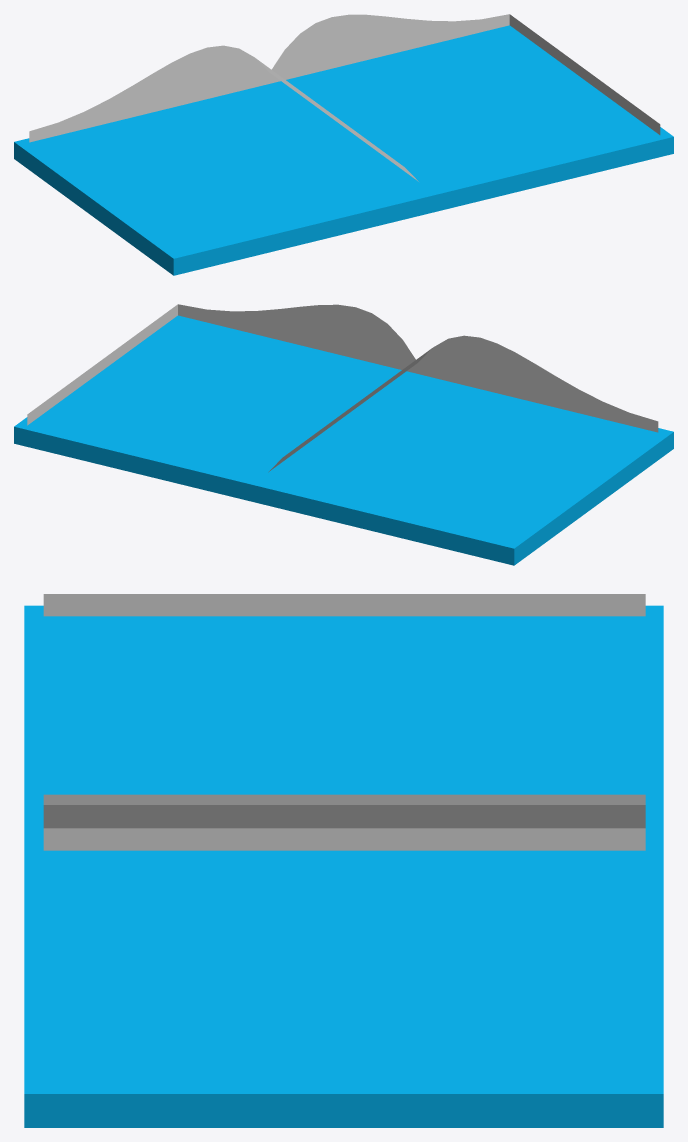
File: openbookblue.glb
3 renders of one model, top to bottom at view 1: azimuth 30°, elevation 25°; view 2: azimuth 150°, elevation 25°; view 3: azimuth 270°, elevation 25°, orthographic. The views are drawn at different scales.
Visible parts, largest first — view 1: Cube, BézierCurve; view 2: Cube, BézierCurve; view 3: Cube, BézierCurve.
Boxes of the visible parts, x1,y1,x2,y2 form: Cube: (14,25,673,275); BézierCurve: (29,14,660,181); Cube: (14,315,673,565); BézierCurve: (27,304,658,472); Cube: (24,605,663,1127); BézierCurve: (43,594,645,850).
Size of the model in its own units: 2.88 by 0.3776 by 1.59.
